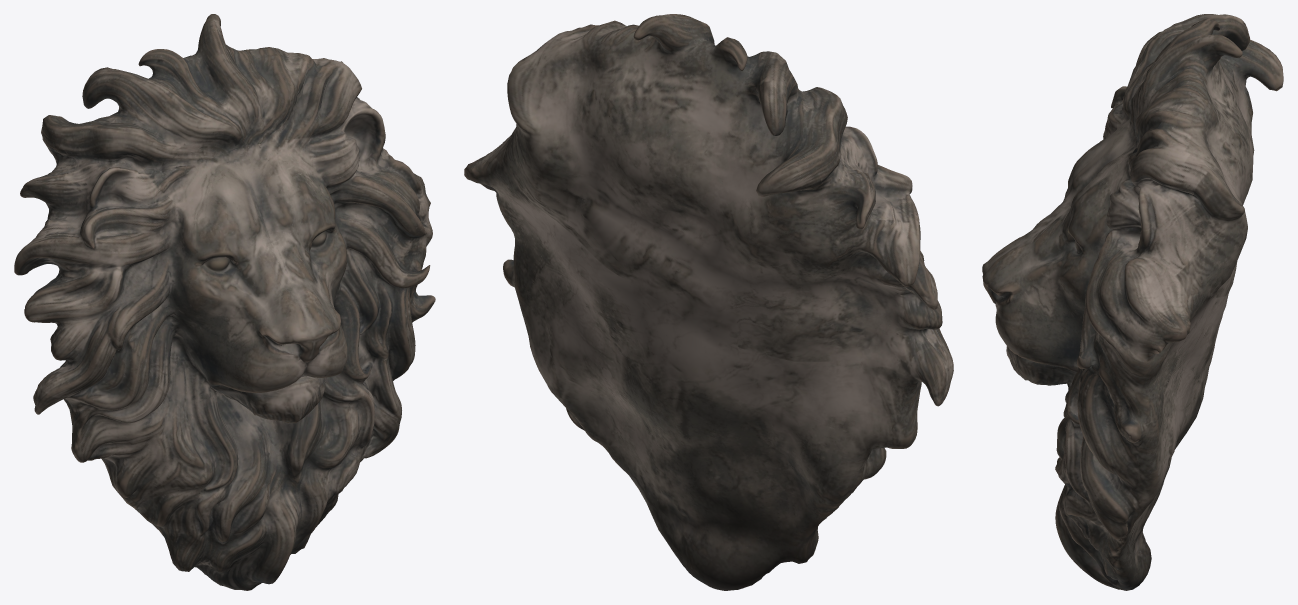
Rendered from lion_head_clean.glb.
The picture shows the model from 3 angles, left to right: view 1: azimuth 30°, elevation 25°; view 2: azimuth 150°, elevation 25°; view 3: azimuth 270°, elevation 25°; orthographic projection. The views are drawn at different scales.
Parts seen in each view (by area): view 1: lion_head; view 2: lion_head; view 3: lion_head.
Part boxes in pixels (bbox=[...]): lion_head: bbox=[14, 14, 435, 590]; lion_head: bbox=[464, 14, 953, 590]; lion_head: bbox=[982, 14, 1283, 590].
Size of the model in its own units: 0.3208 by 0.4035 by 0.1981.
Materials: 1 (1 with a texture image).
